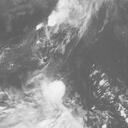cyclone: (42, 5, 90, 43), (30, 78, 70, 116)
